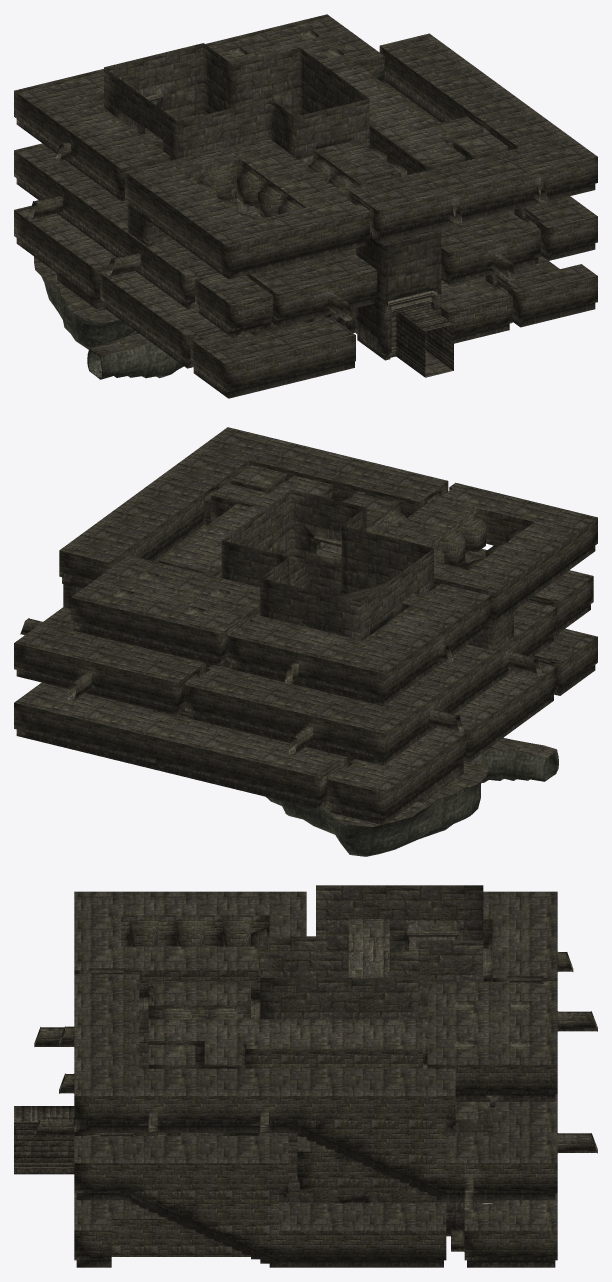
3 renders of one model, top to bottom at view 1: azimuth 30°, elevation 25°; view 2: azimuth 150°, elevation 25°; view 3: azimuth 270°, elevation 25°, orthographic. The views are drawn at different scales.
Parts seen in each view (by area): view 1: Chunk-61_Mesh-0, Chunk-26_Mesh-0, Chunk-26_Mesh-1, Chunk-17_Mesh-1, Chunk-5_Mesh-1, Chunk-5_Mesh-0, Chunk-42_Mesh-0, Chunk-24_Mesh-2, Chunk-30_Mesh-2, Chunk-18_Mesh-2, Chunk-18_Mesh-0, Chunk-32_Mesh-0 (+41 smaller); view 2: Chunk-61_Mesh-0, Chunk-26_Mesh-0, Chunk-17_Mesh-1, Chunk-24_Mesh-2, Chunk-32_Mesh-0, Chunk-24_Mesh-0, Chunk-26_Mesh-1, Chunk-19_Mesh-0, Chunk-19_Mesh-2, Chunk-18_Mesh-0, Chunk-10_Mesh-1, Chunk-21_Mesh-0 (+38 smaller); view 3: Chunk-61_Mesh-0, Chunk-17_Mesh-0, Chunk-26_Mesh-0, Chunk-17_Mesh-1, Chunk-1_Mesh-1, Chunk-30_Mesh-2, Chunk-26_Mesh-1, Chunk-24_Mesh-2, Chunk-18_Mesh-0, Chunk-28_Mesh-2, Chunk-2_Mesh-1, Chunk-19_Mesh-2 (+32 smaller).
Part boxes in pixels (x1=…): Chunk-61_Mesh-0: x1=104, y1=43, x2=369, y2=166; Chunk-26_Mesh-0: x1=125, y1=137, x2=369, y2=246; Chunk-26_Mesh-1: x1=125, y1=159, x2=369, y2=272; Chunk-17_Mesh-1: x1=380, y1=33, x2=597, y2=196; Chunk-5_Mesh-1: x1=190, y1=270, x2=377, y2=392; Chunk-5_Mesh-0: x1=191, y1=250, x2=376, y2=366; Chunk-42_Mesh-0: x1=343, y1=229, x2=441, y2=353; Chunk-24_Mesh-2: x1=14, y1=69, x2=170, y2=168; Chunk-30_Mesh-2: x1=339, y1=69, x2=482, y2=166; Chunk-18_Mesh-2: x1=348, y1=171, x2=547, y2=236; Chunk-18_Mesh-0: x1=349, y1=150, x2=540, y2=217; Chunk-32_Mesh-0: x1=35, y1=270, x2=183, y2=379; Chunk-61_Mesh-0: x1=221, y1=489, x2=433, y2=640; Chunk-26_Mesh-0: x1=383, y1=482, x2=597, y2=592; Chunk-17_Mesh-1: x1=55, y1=427, x2=283, y2=616; Chunk-24_Mesh-2: x1=228, y1=583, x2=490, y2=677; Chunk-32_Mesh-0: x1=266, y1=749, x2=558, y2=856; Chunk-24_Mesh-0: x1=227, y1=596, x2=490, y2=699; Chunk-26_Mesh-1: x1=426, y1=508, x2=597, y2=618; Chunk-19_Mesh-0: x1=14, y1=618, x2=206, y2=708; Chunk-19_Mesh-2: x1=14, y1=613, x2=205, y2=682; Chunk-18_Mesh-0: x1=256, y1=441, x2=447, y2=501; Chunk-10_Mesh-1: x1=156, y1=737, x2=348, y2=803; Chunk-21_Mesh-0: x1=185, y1=685, x2=341, y2=754; Chunk-61_Mesh-0: x1=260, y1=885, x2=483, y2=1020; Chunk-17_Mesh-0: x1=74, y1=1096, x2=464, y2=1192; Chunk-26_Mesh-0: x1=74, y1=891, x2=306, y2=970; Chunk-17_Mesh-1: x1=74, y1=1064, x2=464, y2=1163; Chunk-1_Mesh-1: x1=74, y1=1201, x2=278, y2=1260; Chunk-30_Mesh-2: x1=148, y1=1019, x2=408, y2=1064; Chunk-26_Mesh-1: x1=74, y1=915, x2=269, y2=999; Chunk-24_Mesh-2: x1=409, y1=891, x2=557, y2=978; Chunk-18_Mesh-0: x1=74, y1=974, x2=139, y2=1064; Chunk-28_Mesh-2: x1=427, y1=982, x2=501, y2=1107; Chunk-2_Mesh-1: x1=279, y1=1230, x2=446, y2=1260; Chunk-19_Mesh-2: x1=464, y1=1094, x2=557, y2=1192.
Size of the model in its own units: 6233 by 3100 by 6283.
15 materials, 15 textured.
